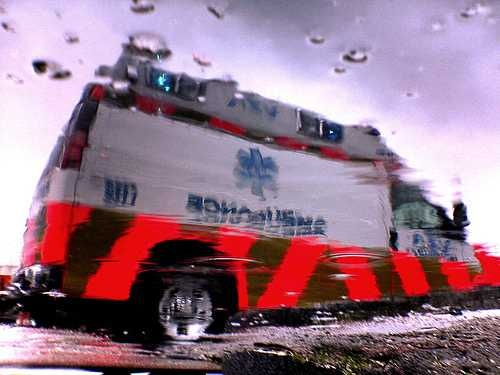Ambulance: (22, 52, 491, 351)
